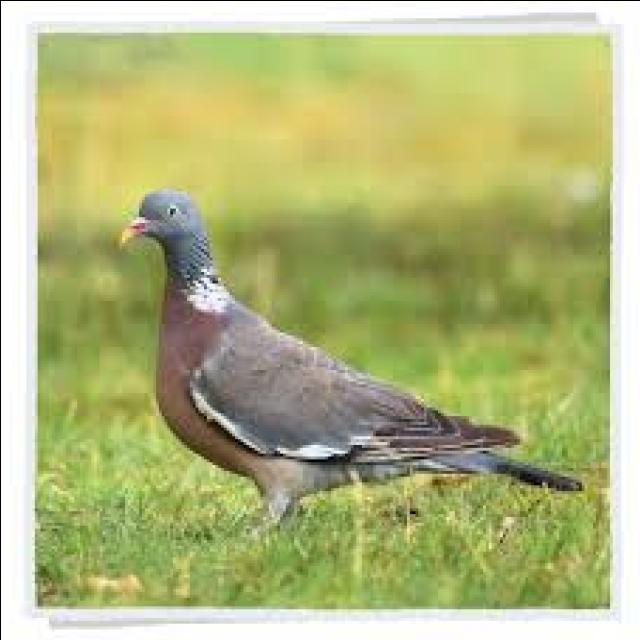pigeon: (96, 162, 580, 560)
